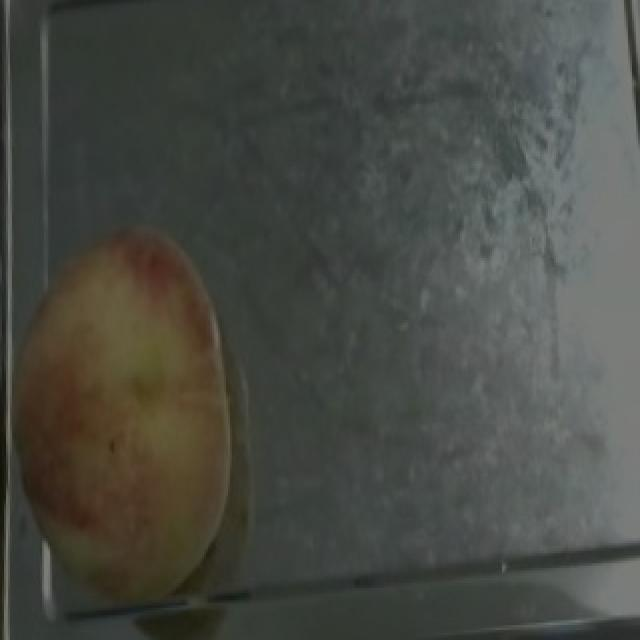Fruit: (0, 215, 250, 556)
